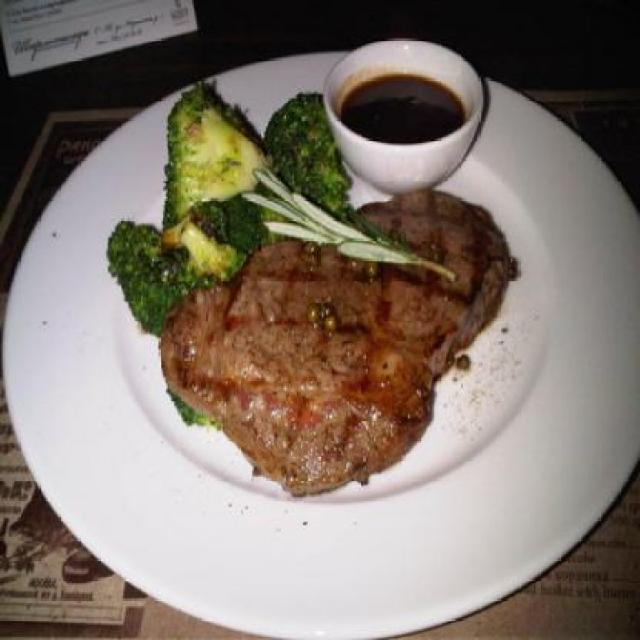Steak: (148, 220, 564, 508)
